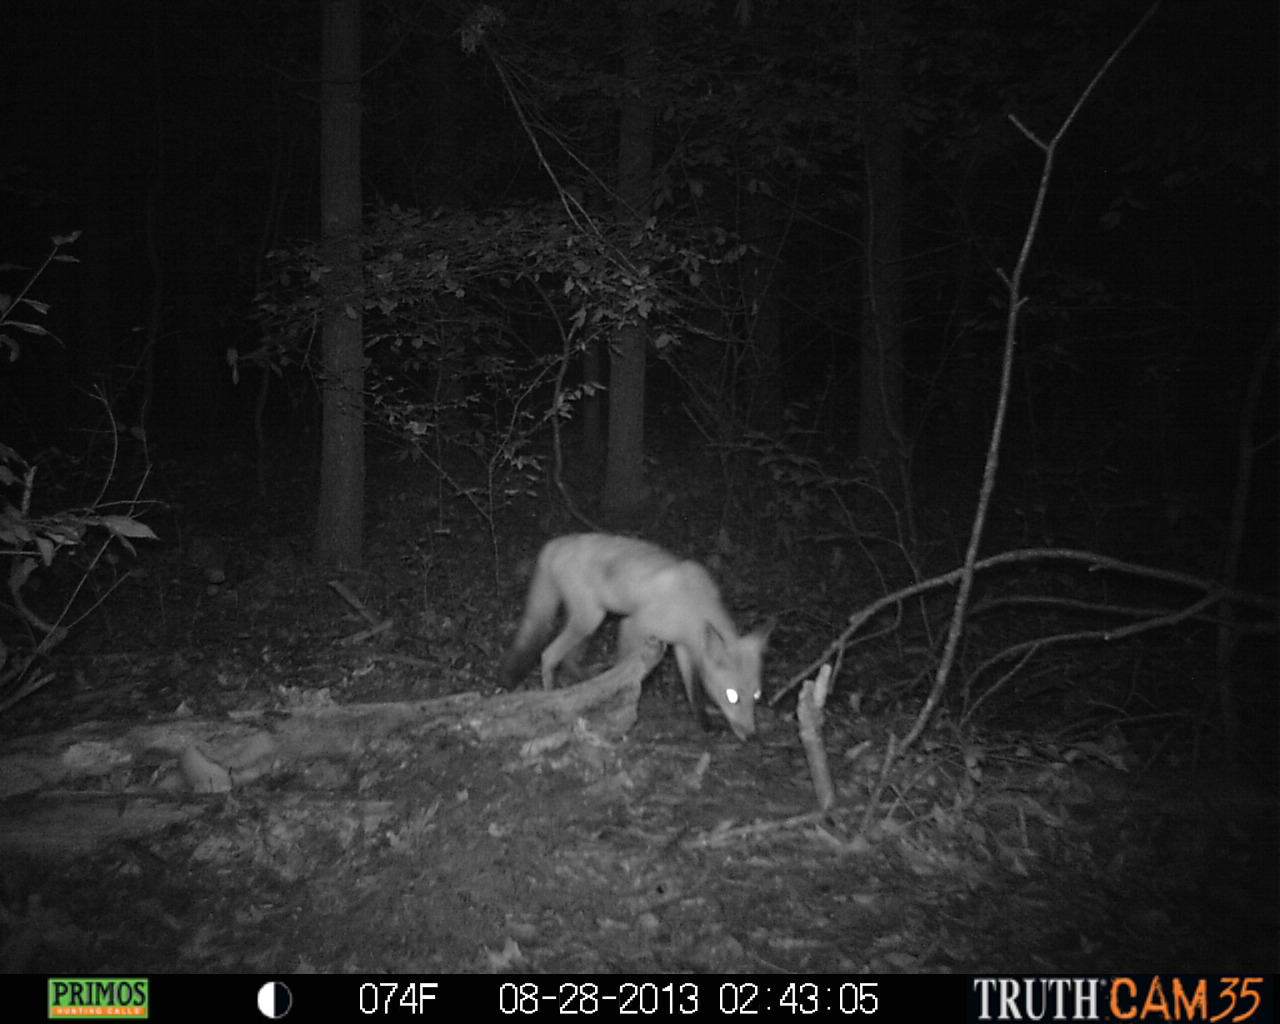fox: (473, 501, 812, 759)
